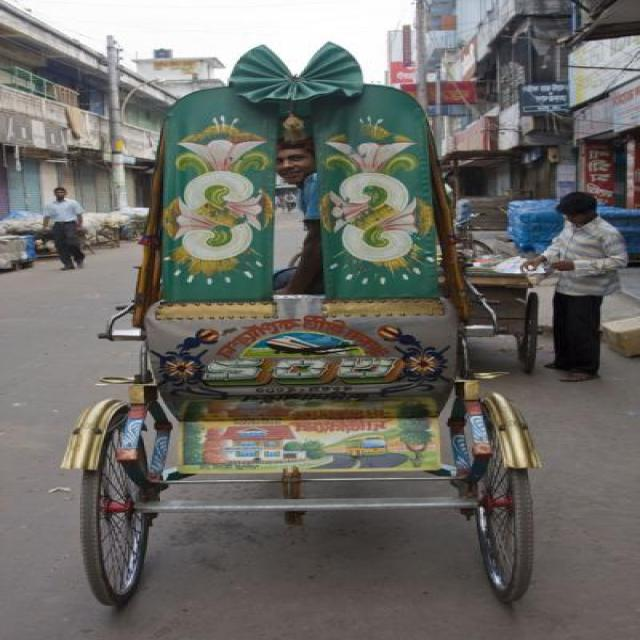Rickshaw: (49, 41, 564, 607)
